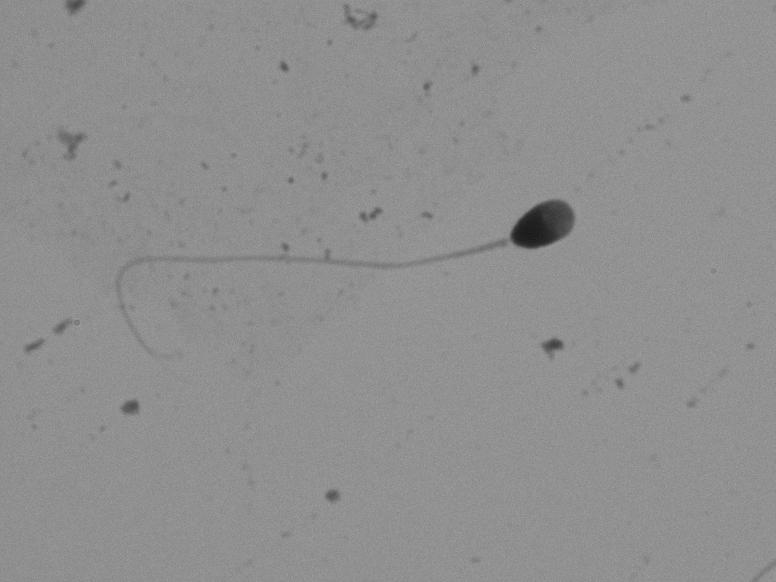Normal: (108, 158, 622, 374)
